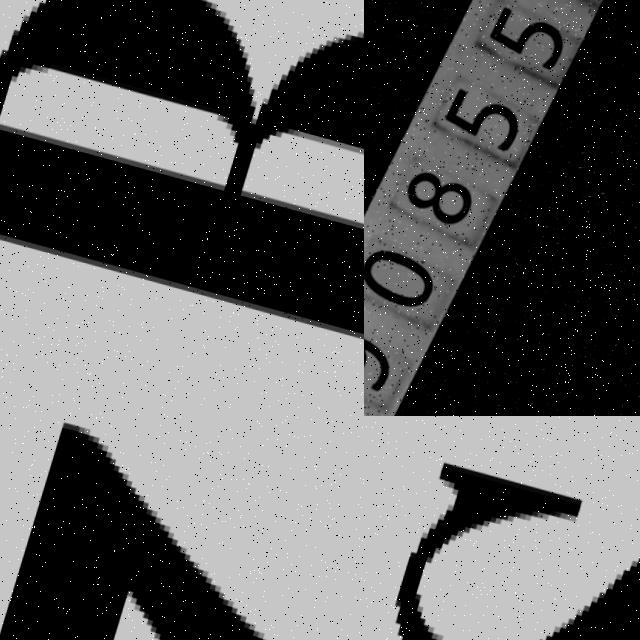0: (364, 228, 460, 325)
5: (424, 69, 543, 164), (473, 0, 583, 80)
7: (0, 416, 364, 640)
8: (386, 152, 496, 238)
9: (364, 310, 420, 405)
B: (0, 0, 364, 329)
S: (364, 416, 640, 640)
